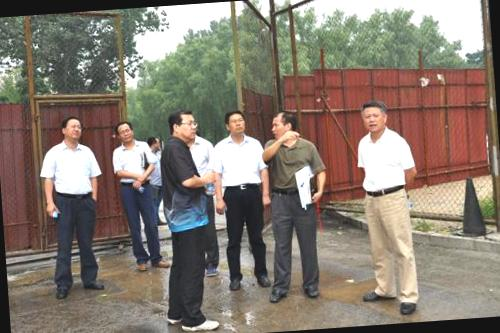no_helmet: (356, 98, 390, 138), (169, 106, 200, 142), (269, 108, 297, 138), (59, 114, 85, 146), (223, 108, 249, 138), (112, 120, 136, 145), (146, 133, 164, 157)
